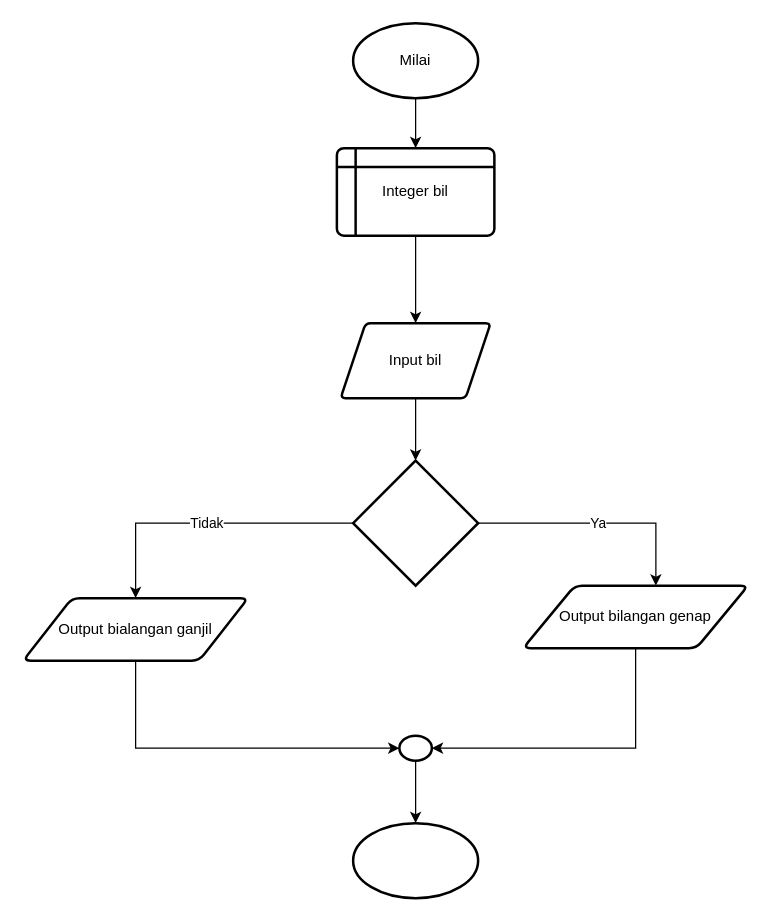
The diagram is 770 pixels wide and 920 high, and some of its shapes have lost their labels. Here are the shapes that lost their labels. From the top down, the centre of each, then its label:
At pixel 415 522: "Bil mod = 0".
At pixel 415 860: "Selesai".
